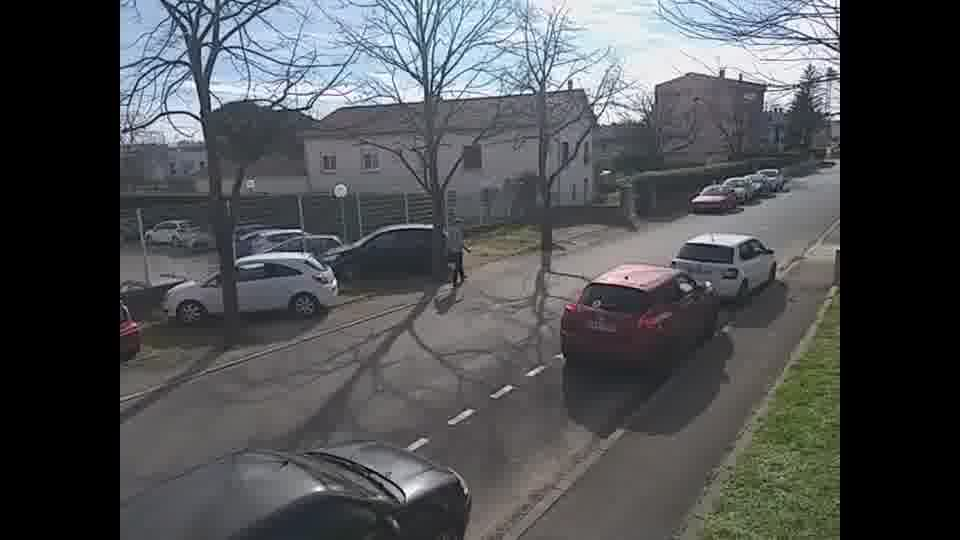jugador: (443, 213, 473, 290)
